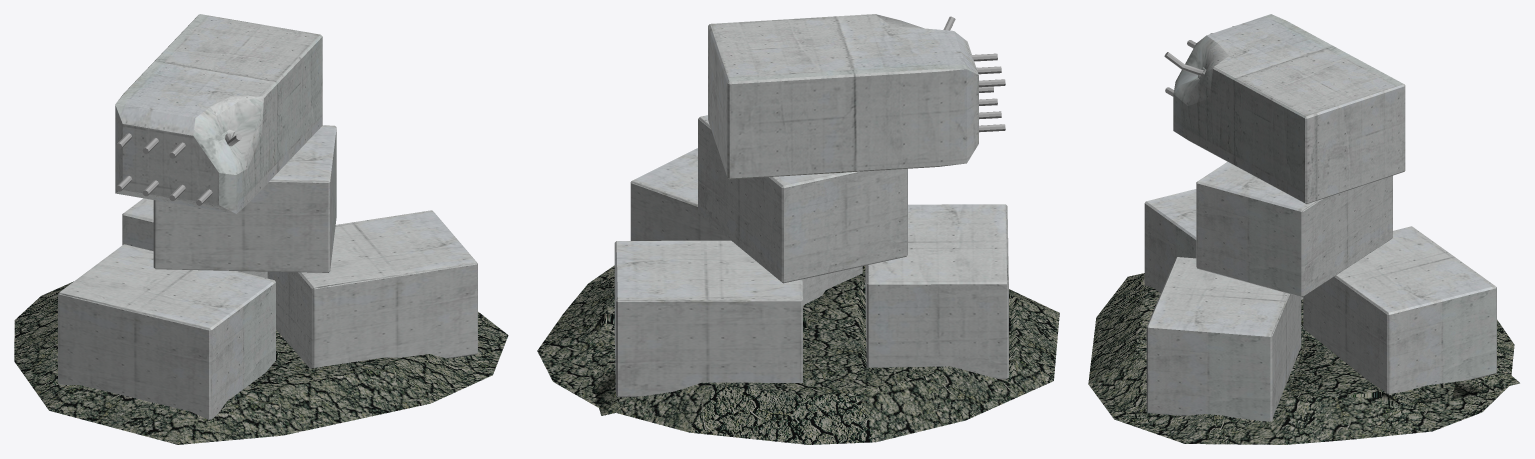
The model's file is Obstacle_BoxClump.fbx.
The picture shows the model from 3 angles, left to right: view 1: azimuth 30°, elevation 25°; view 2: azimuth 150°, elevation 25°; view 3: azimuth 270°, elevation 25°; orthographic projection. The views are drawn at different scales.
Parts seen in each view (by area): view 1: pCube5, pCube2, pPlane1, pCube3, pCube4, pCube1; view 2: pCube5, pPlane1, pCube1, pCube2, pCube4, pCube3; view 3: pCube5, pPlane1, pCube1, pCube3, pCube4, pCube2.
Part boxes in pixels (x1,y1,x2,y2): pCube5: (115, 14, 322, 213); pCube2: (58, 244, 275, 420); pPlane1: (14, 281, 508, 444); pCube3: (267, 210, 477, 368); pCube4: (153, 125, 336, 272); pCube1: (122, 198, 267, 278); pCube5: (708, 14, 978, 179); pPlane1: (537, 265, 1059, 444); pCube1: (614, 240, 802, 397); pCube2: (865, 204, 1008, 379); pCube4: (698, 115, 907, 283); pCube3: (630, 148, 862, 305); pCube5: (1173, 14, 1405, 203); pPlane1: (1088, 273, 1519, 444); pCube1: (1303, 226, 1496, 393); pCube3: (1146, 257, 1301, 421); pCube4: (1196, 162, 1392, 297); pCube2: (1144, 189, 1303, 299).
Bounding box in the file's own units: 2.21 × 1.42 × 2.05.
Materials: 3 (2 with a texture image).
